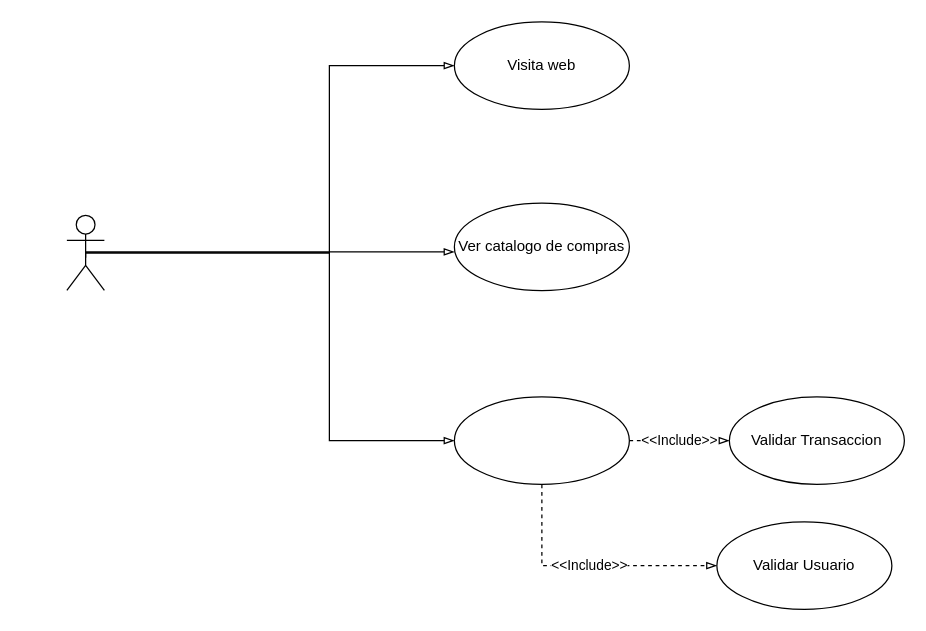
Image size: 926x631. Some labels were removed from this diagram. The shapes that lost their labels are listed below. From the top down, each one's centre as x and y in pixels, then its label:
point (85, 252): Usuario Registrado
point (541, 440): Comprar
